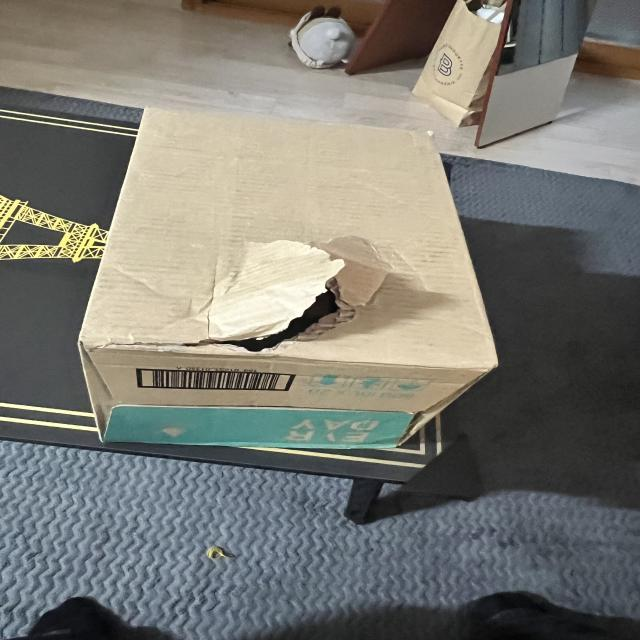box: (72, 108, 498, 451)
tear: (197, 234, 395, 351)
